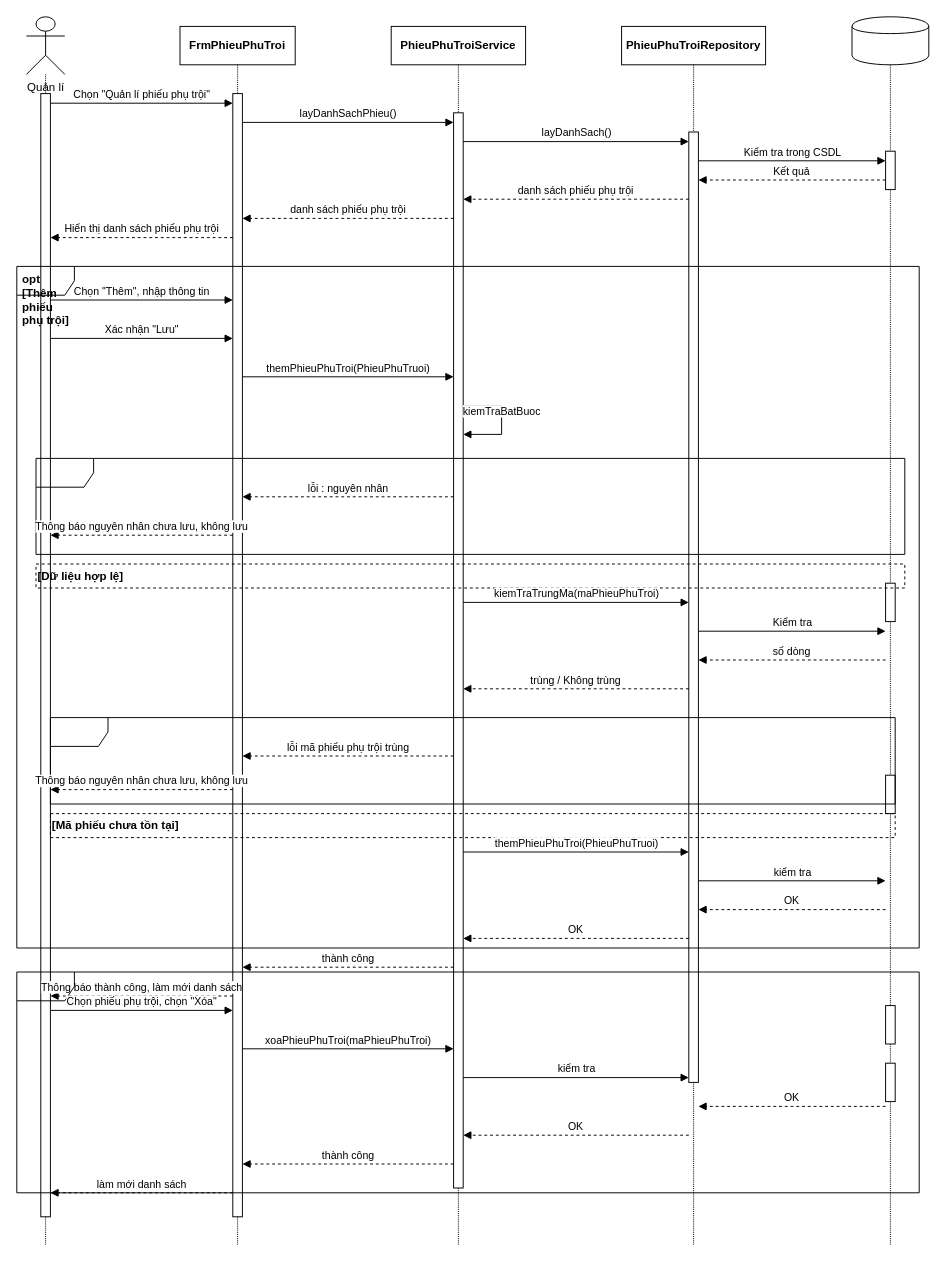
The diagram is 946 pixels wide and 1263 high, and some of its shapes have lost their labels. The shapes that lost their labels are listed below. From the top down, each one's centre as x and y in pixels, then its label:
the point at 890,40: CSDL
the point at 470,505: [Thông tin trường bắt buộc hoặc loại bỏ lệ không hợp lệ]
the point at 472,760: [Mã phiếu trùng]
the point at 467,1082: opt [K2: Xóa phiếu phụ trội]
